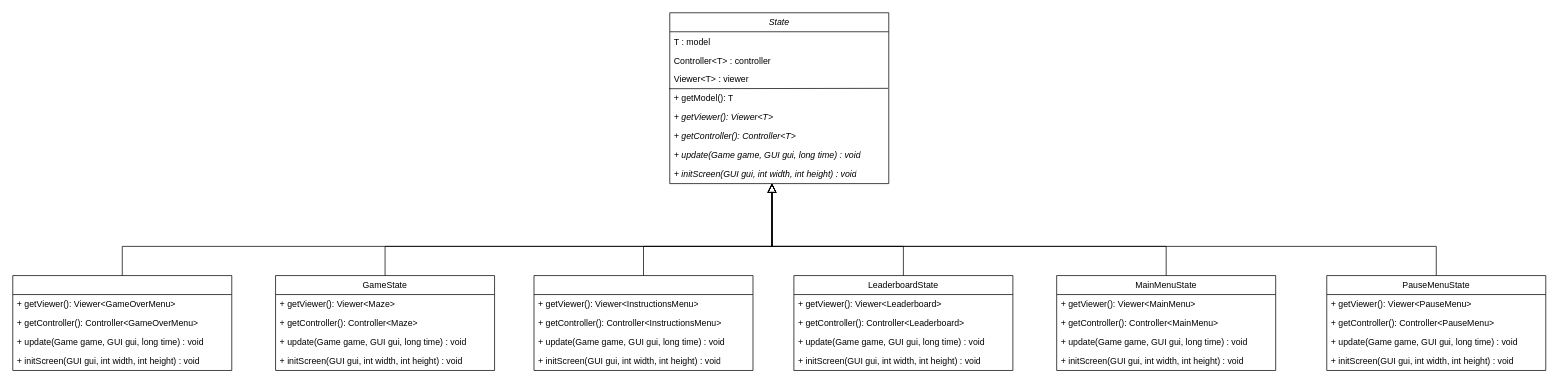
The diagram is 1559 pixels wide and 385 high, and some of its shapes have lost their labels. The box of each missing label's shape, as (x1, y1, x2, y2) in pixels:
GameOverState: (12, 275, 232, 370)
InstructionsMenuState: (533, 275, 753, 370)
